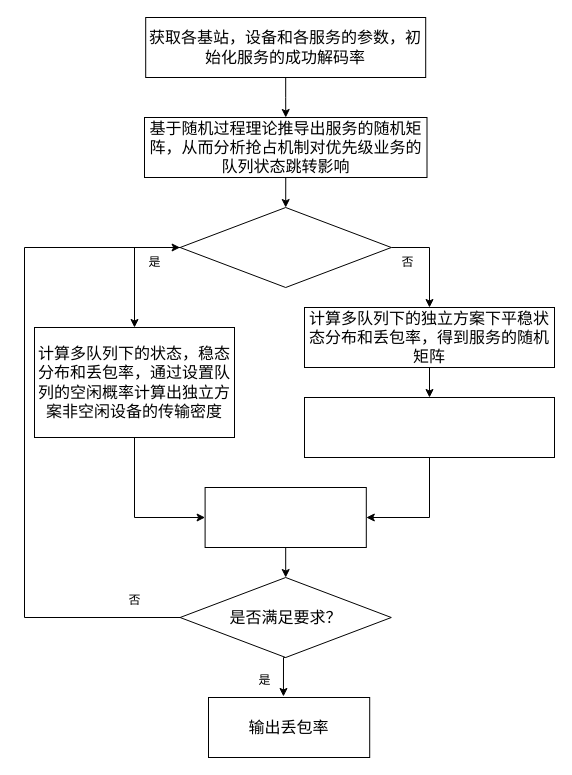
Some shapes in this 572 by 775 pixel diagram are drawn without their labels. Each missing label, with the centre of its shape:
"独立方案？" goes at point (285, 247).
"计算优先方案的稳定状态分布和丢包率，计算出优先级方案的非空闲设备传输密度" goes at point (429, 427).
"计算覆盖概率和成功解码率" goes at point (285, 517).
